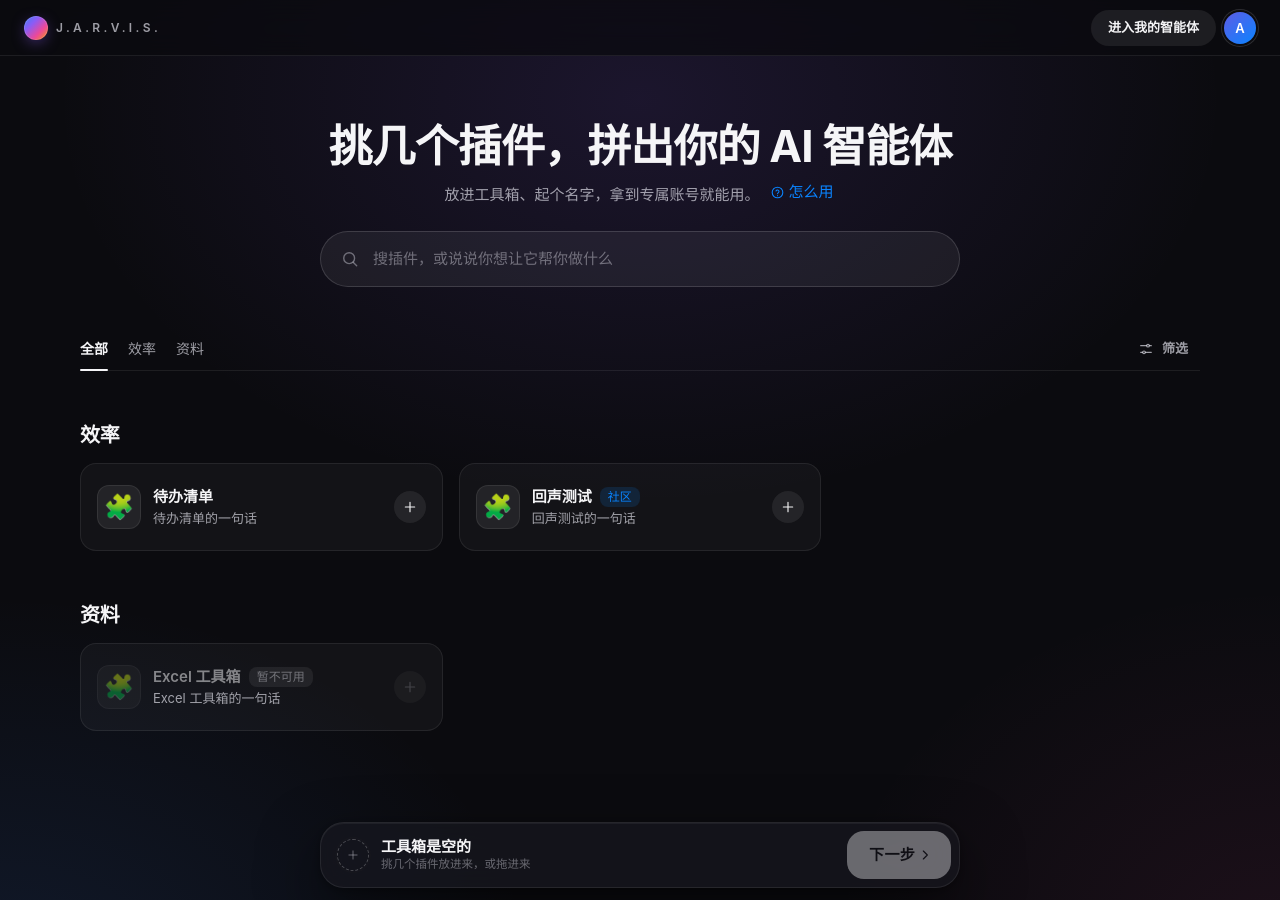
Scenario: 插件市场：来源、不可用与插件管理 › Owner：下载失败时提示「下载 zip 后上传」的退路
The width and height of the screenshot is (1280, 900).
Click the button named "账号：": (1240, 28) [1224, 12, 1256, 44]
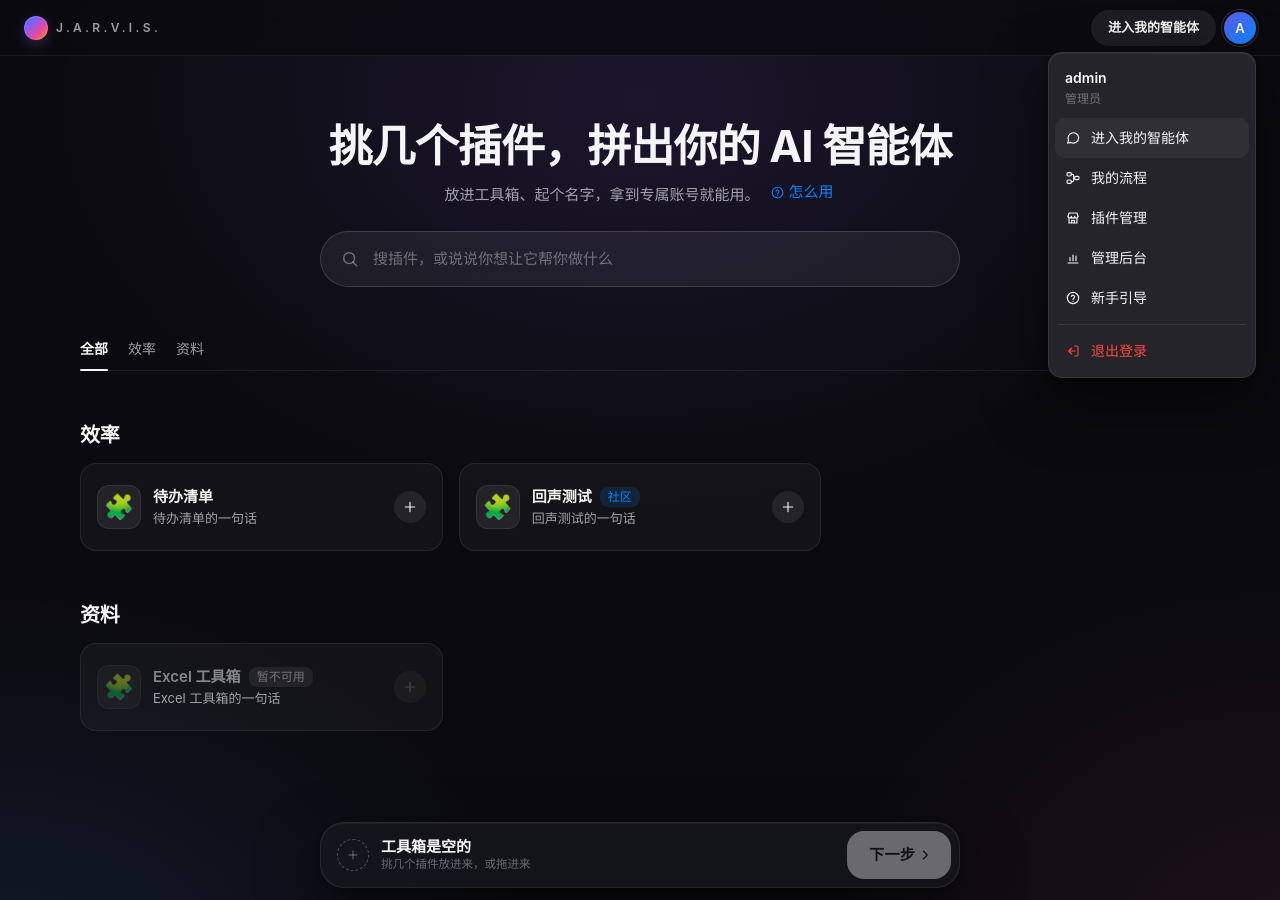
Click the menu item "插件管理": (1152, 218) [1055, 198, 1249, 238]
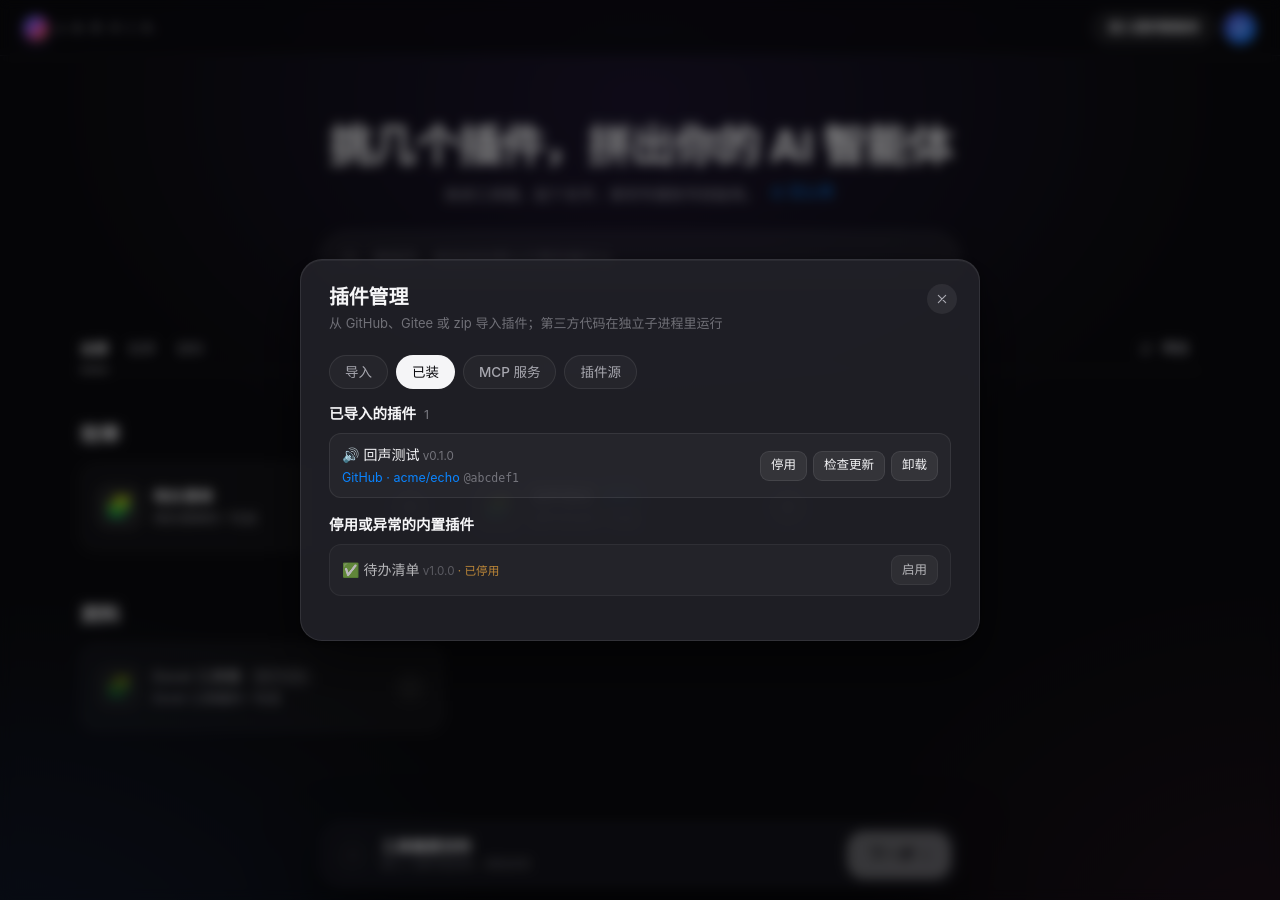
Click the tab "导入": (358, 372) [329, 355, 388, 389]
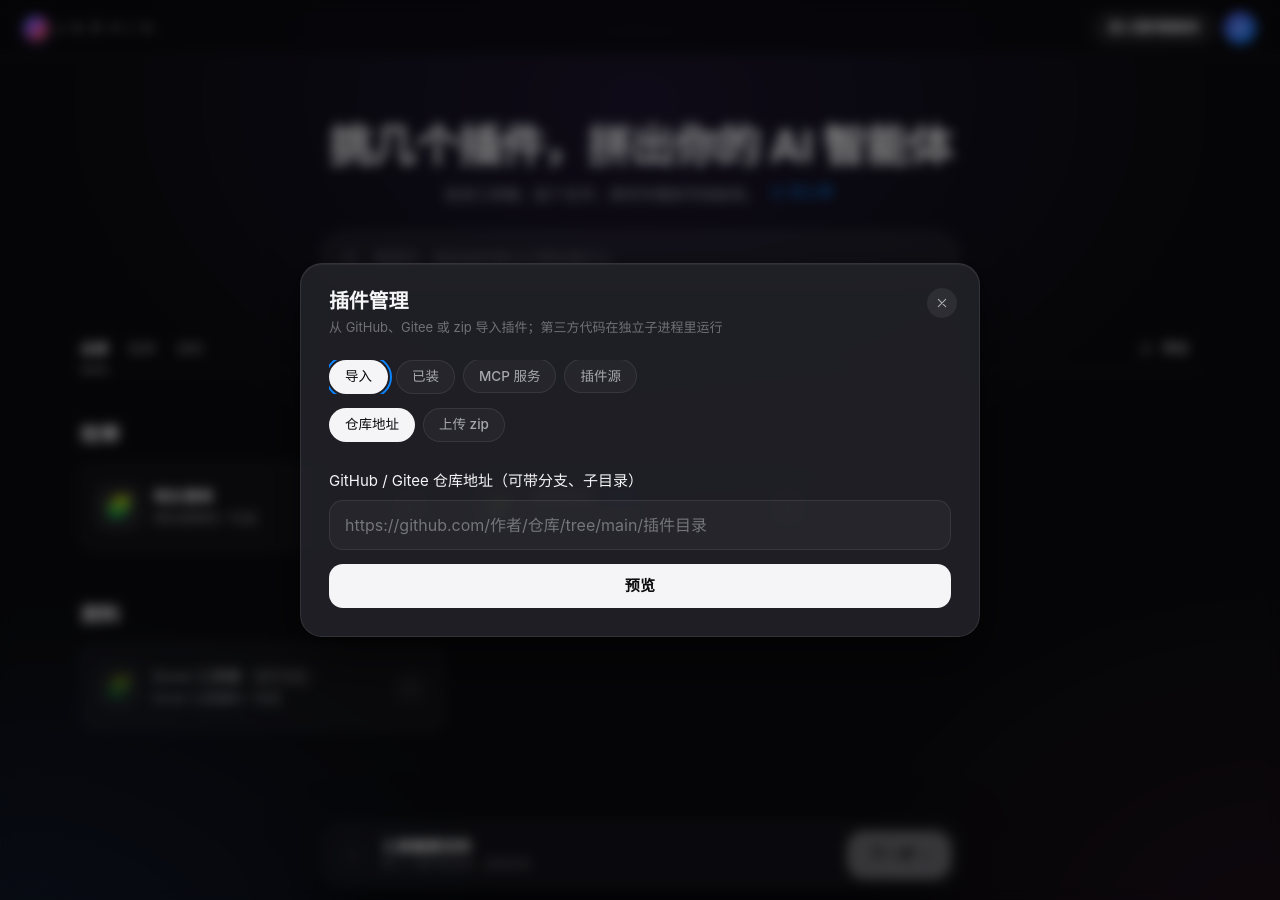
In the field: (640, 525) [329, 500, 951, 550], type "https://github.com/acme/x"
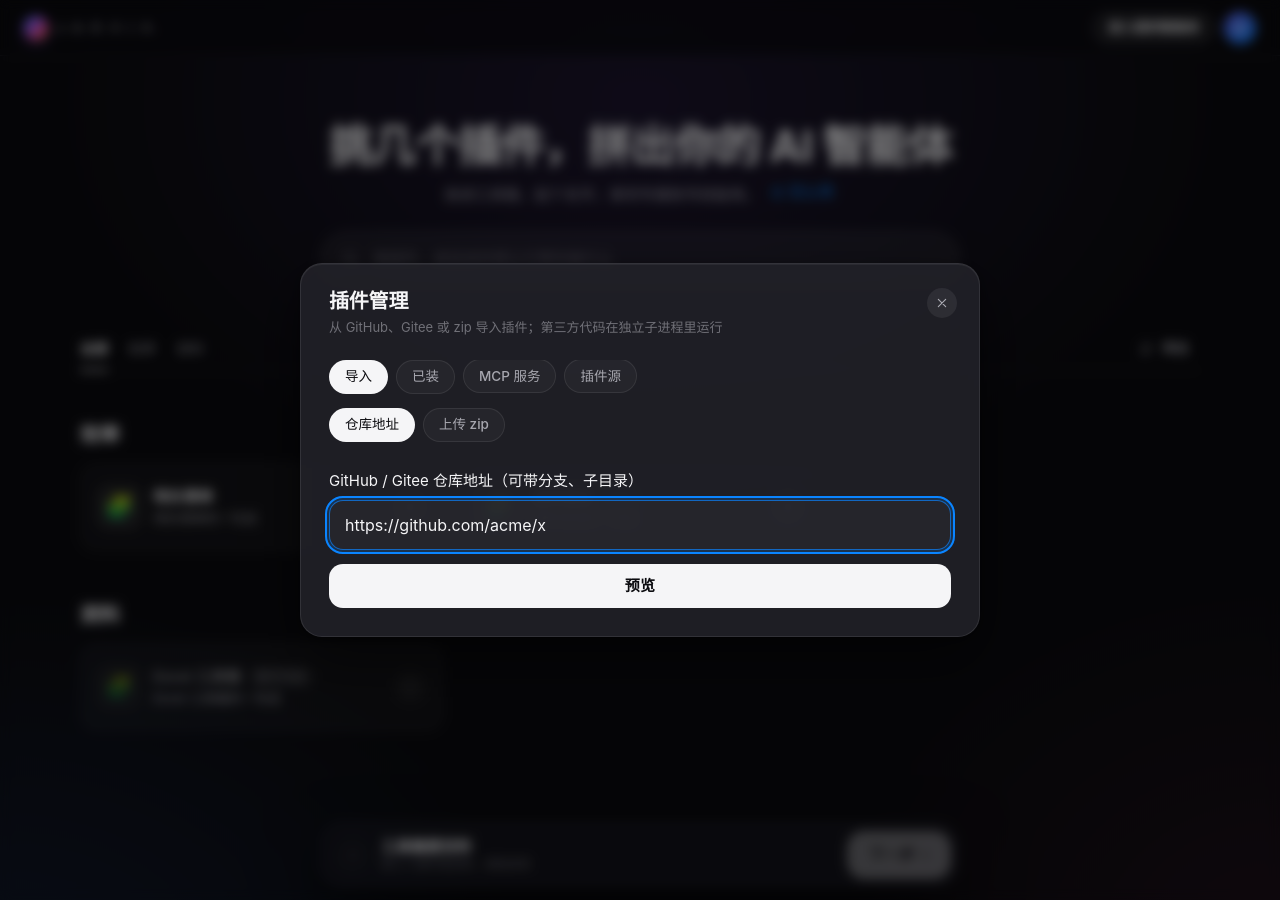
Click the button "预览": (640, 586) [329, 564, 951, 608]
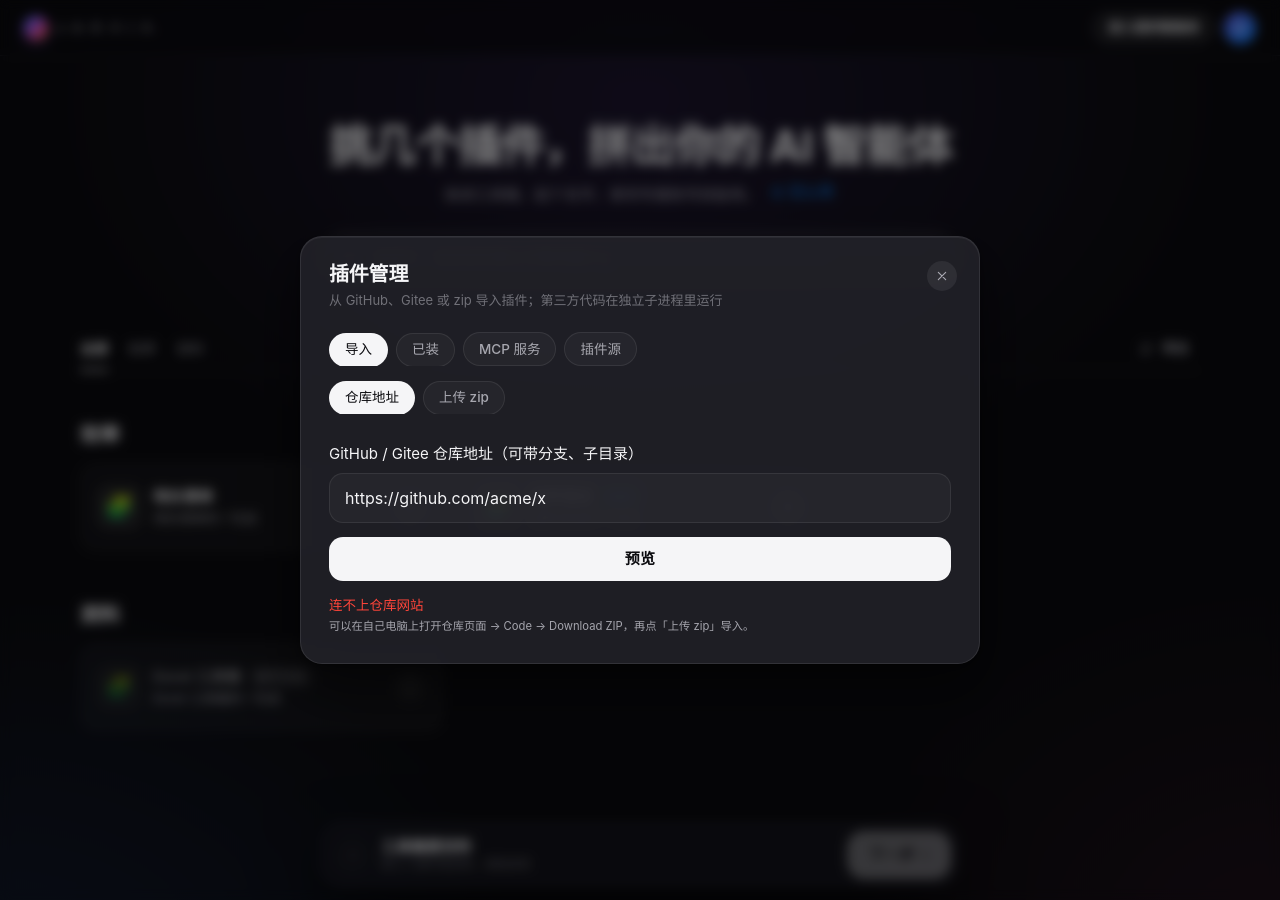
Expected: the message shows "连不上仓库网站", [329, 597, 424, 613]
Expected: the message shows "Download ZIP", [329, 619, 754, 633]
